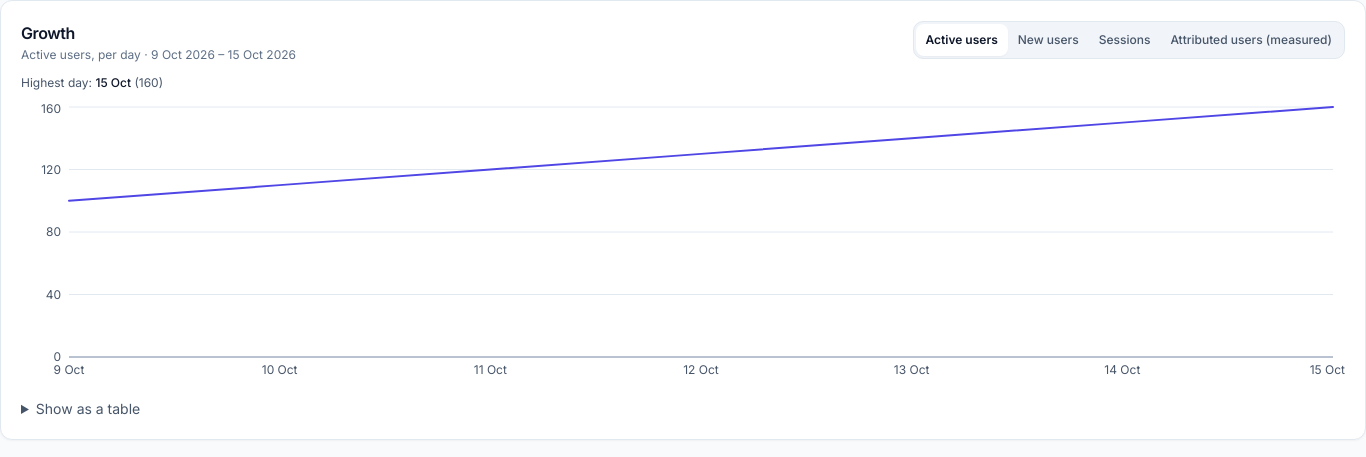
Scenario: GrowthCard › says "No measured attribution available" for attributed users, with a Measured badge
Expected: the text "Highest day: 15 Oct (160)" is shown, [21, 75, 163, 90]
Click the button "Attributed users (measured)". click: (1251,40)
box: [1160, 24, 1342, 56]
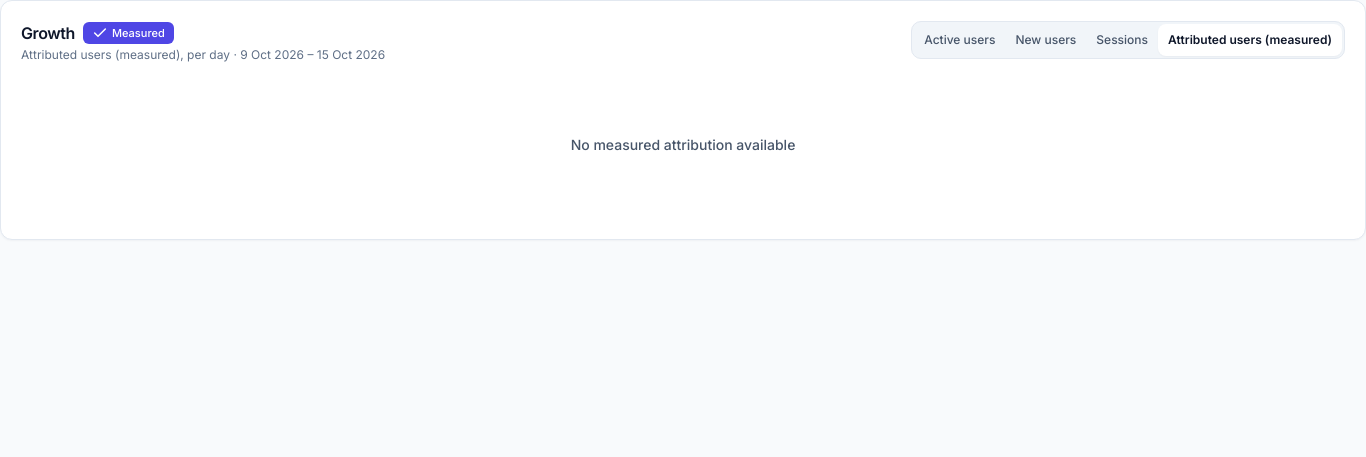
Now the text "No measured attribution available" is shown, box [571, 136, 795, 153]
Now the text "Measured" is shown, box [83, 22, 174, 44]
Now the text "Highest day" is gone
